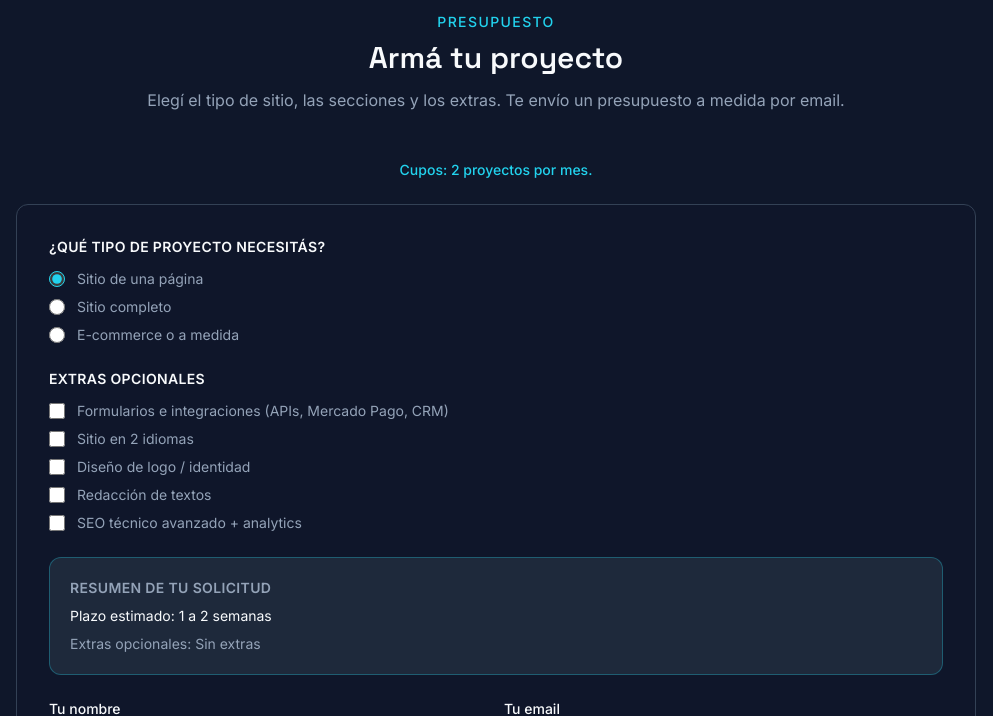
Test case: Estimator › shows the online store included in the custom tier
This screenshot has width=993, height=716.
Expected: the checkbox labelled "tienda online" is not shown
Step 1. Click the radio button labelled "E-commerce o a medida" → click(57, 335), box [49,327,65,343]
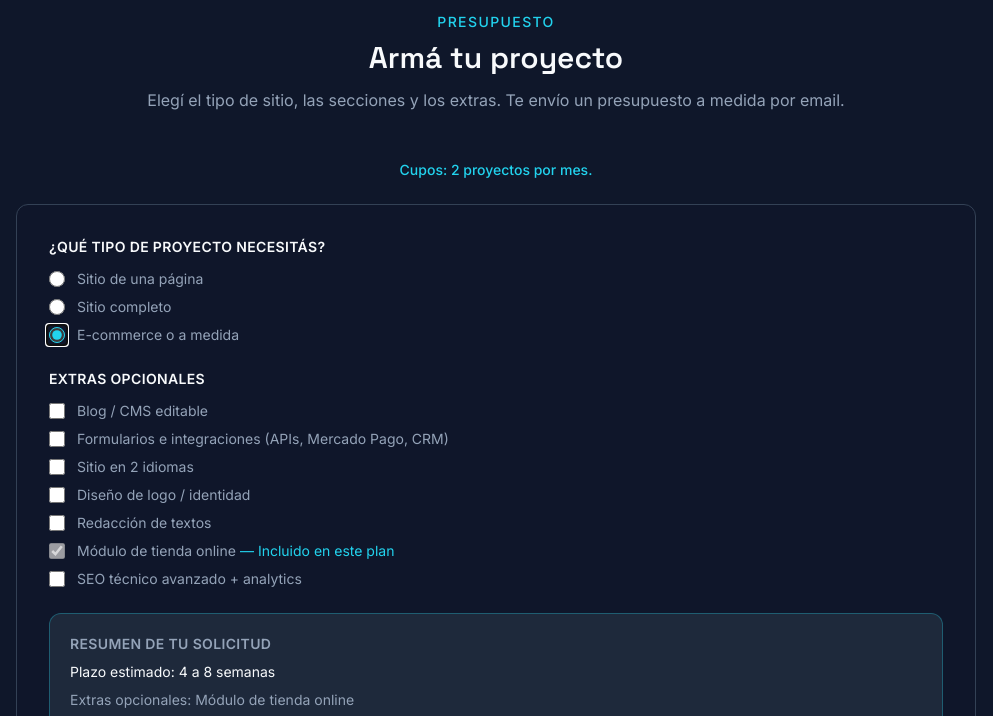
Expected: the checkbox labelled "Módulo de tienda online— Incluido en este plan" is disabled, [49,543,65,559]
Expected: the checkbox labelled "Módulo de tienda online— Incluido en este plan" is checked, [49,543,65,559]
Expected: the element with test id "quote-summary" shows "Módulo de tienda online", [195,691,354,708]
